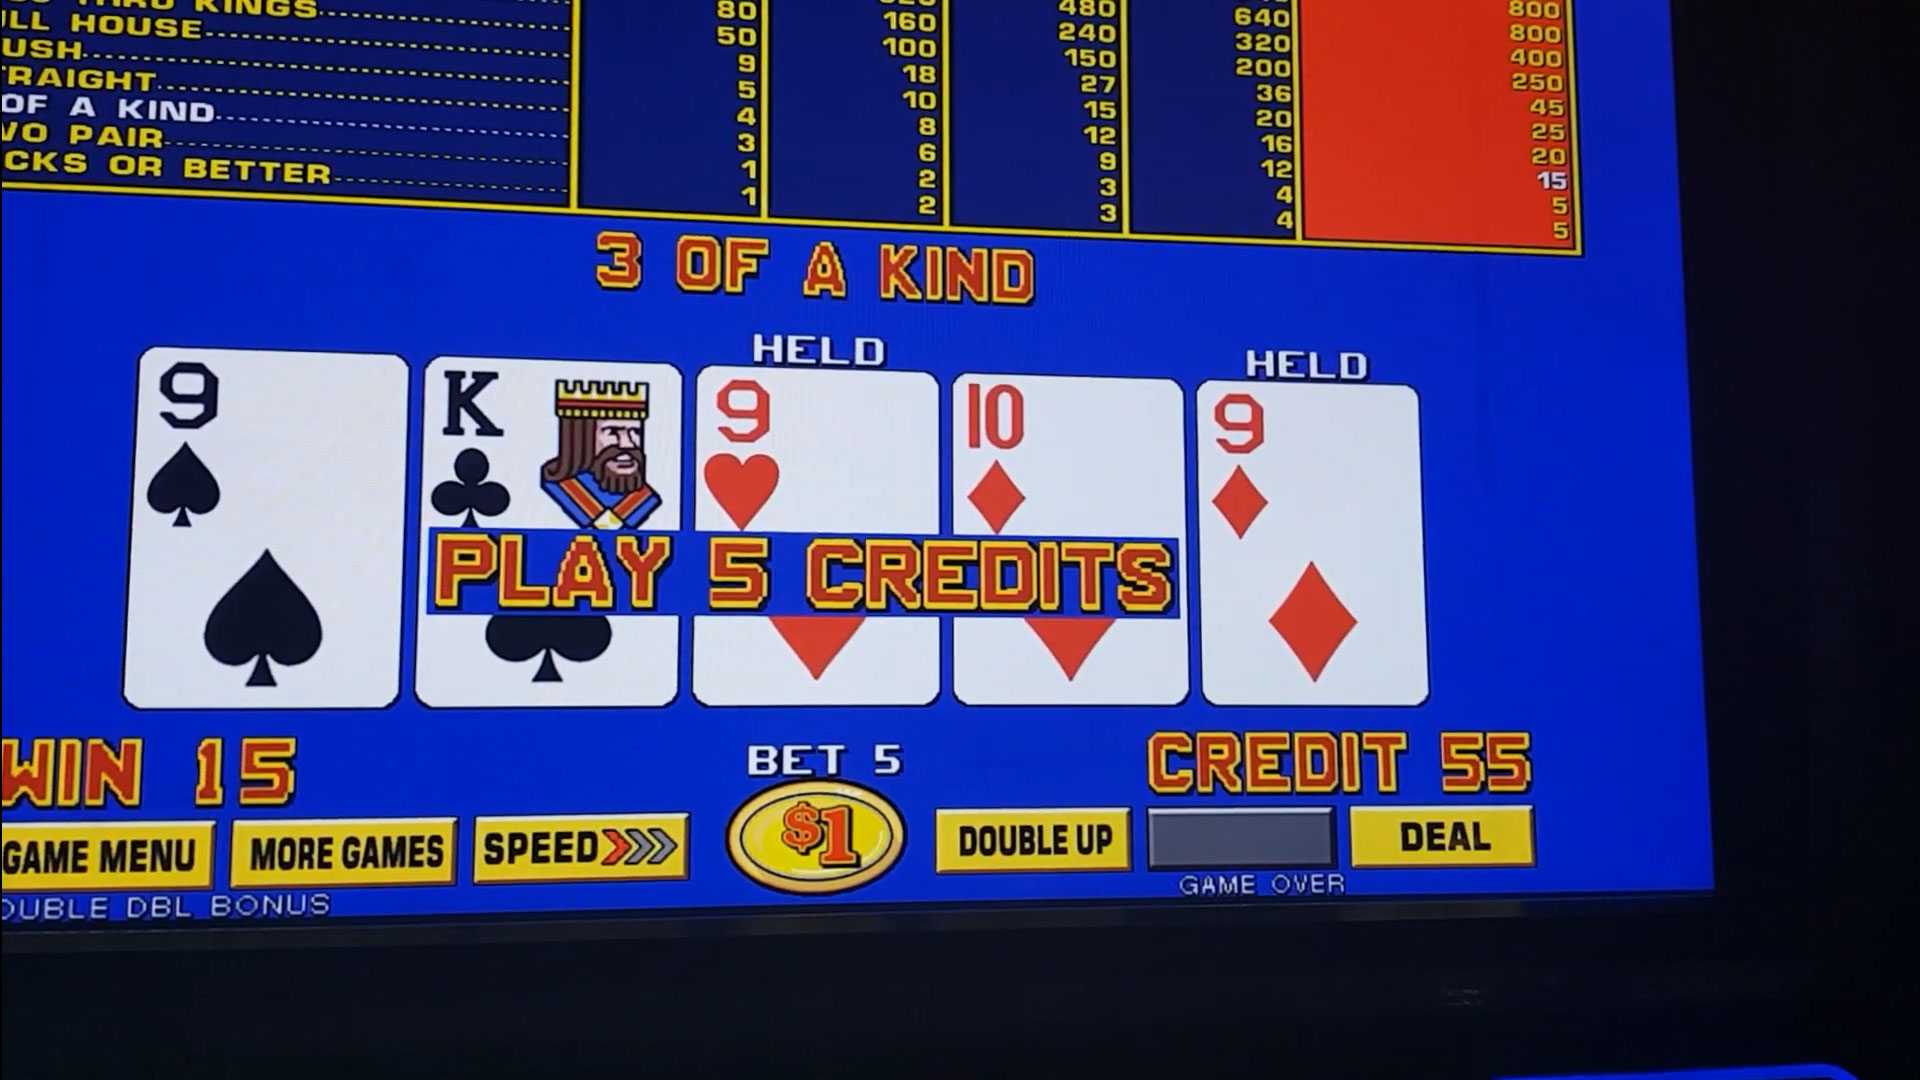CK: (429, 371, 674, 525)
D9: (1197, 385, 1414, 541)
DT: (956, 384, 1178, 533)
H9: (702, 377, 938, 525)
S9: (146, 361, 405, 527)
